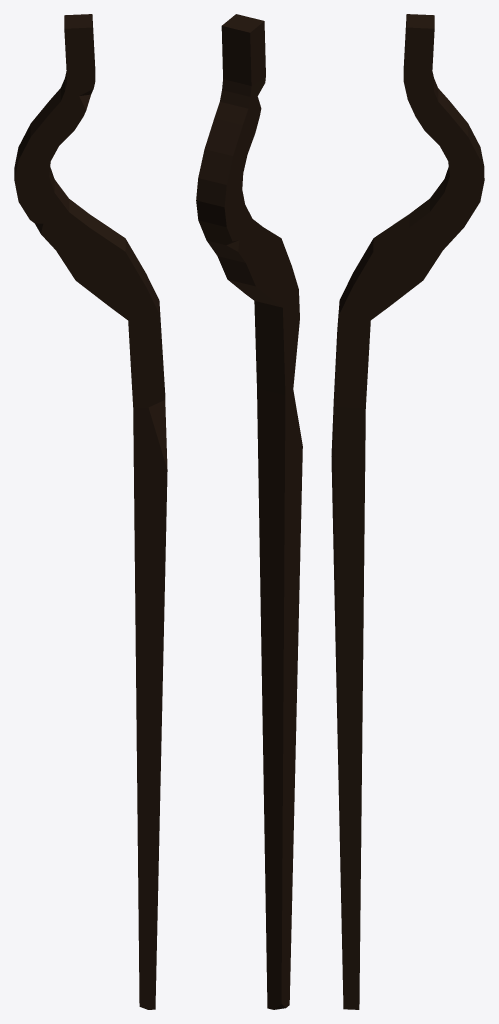
Rendered from SFFA_Pincer_009.fbx.
3 views of the same model, side by side, from view 1: azimuth 90°, elevation 25°; view 2: azimuth 150°, elevation 25°; view 3: azimuth 270°, elevation 25° (orthographic). The views are drawn at different scales.
Parts seen in each view (by area): view 1: SFFA_Pincer_009; view 2: SFFA_Pincer_009; view 3: SFFA_Pincer_009.
Boxes of the visible parts, box(x1,y1,x2,y2) form: SFFA_Pincer_009: box(14, 14, 167, 1009); SFFA_Pincer_009: box(196, 14, 302, 1009); SFFA_Pincer_009: box(331, 14, 484, 1009).
Bounding box in the file's own units: 2.79 × 94.41 × 13.28.
